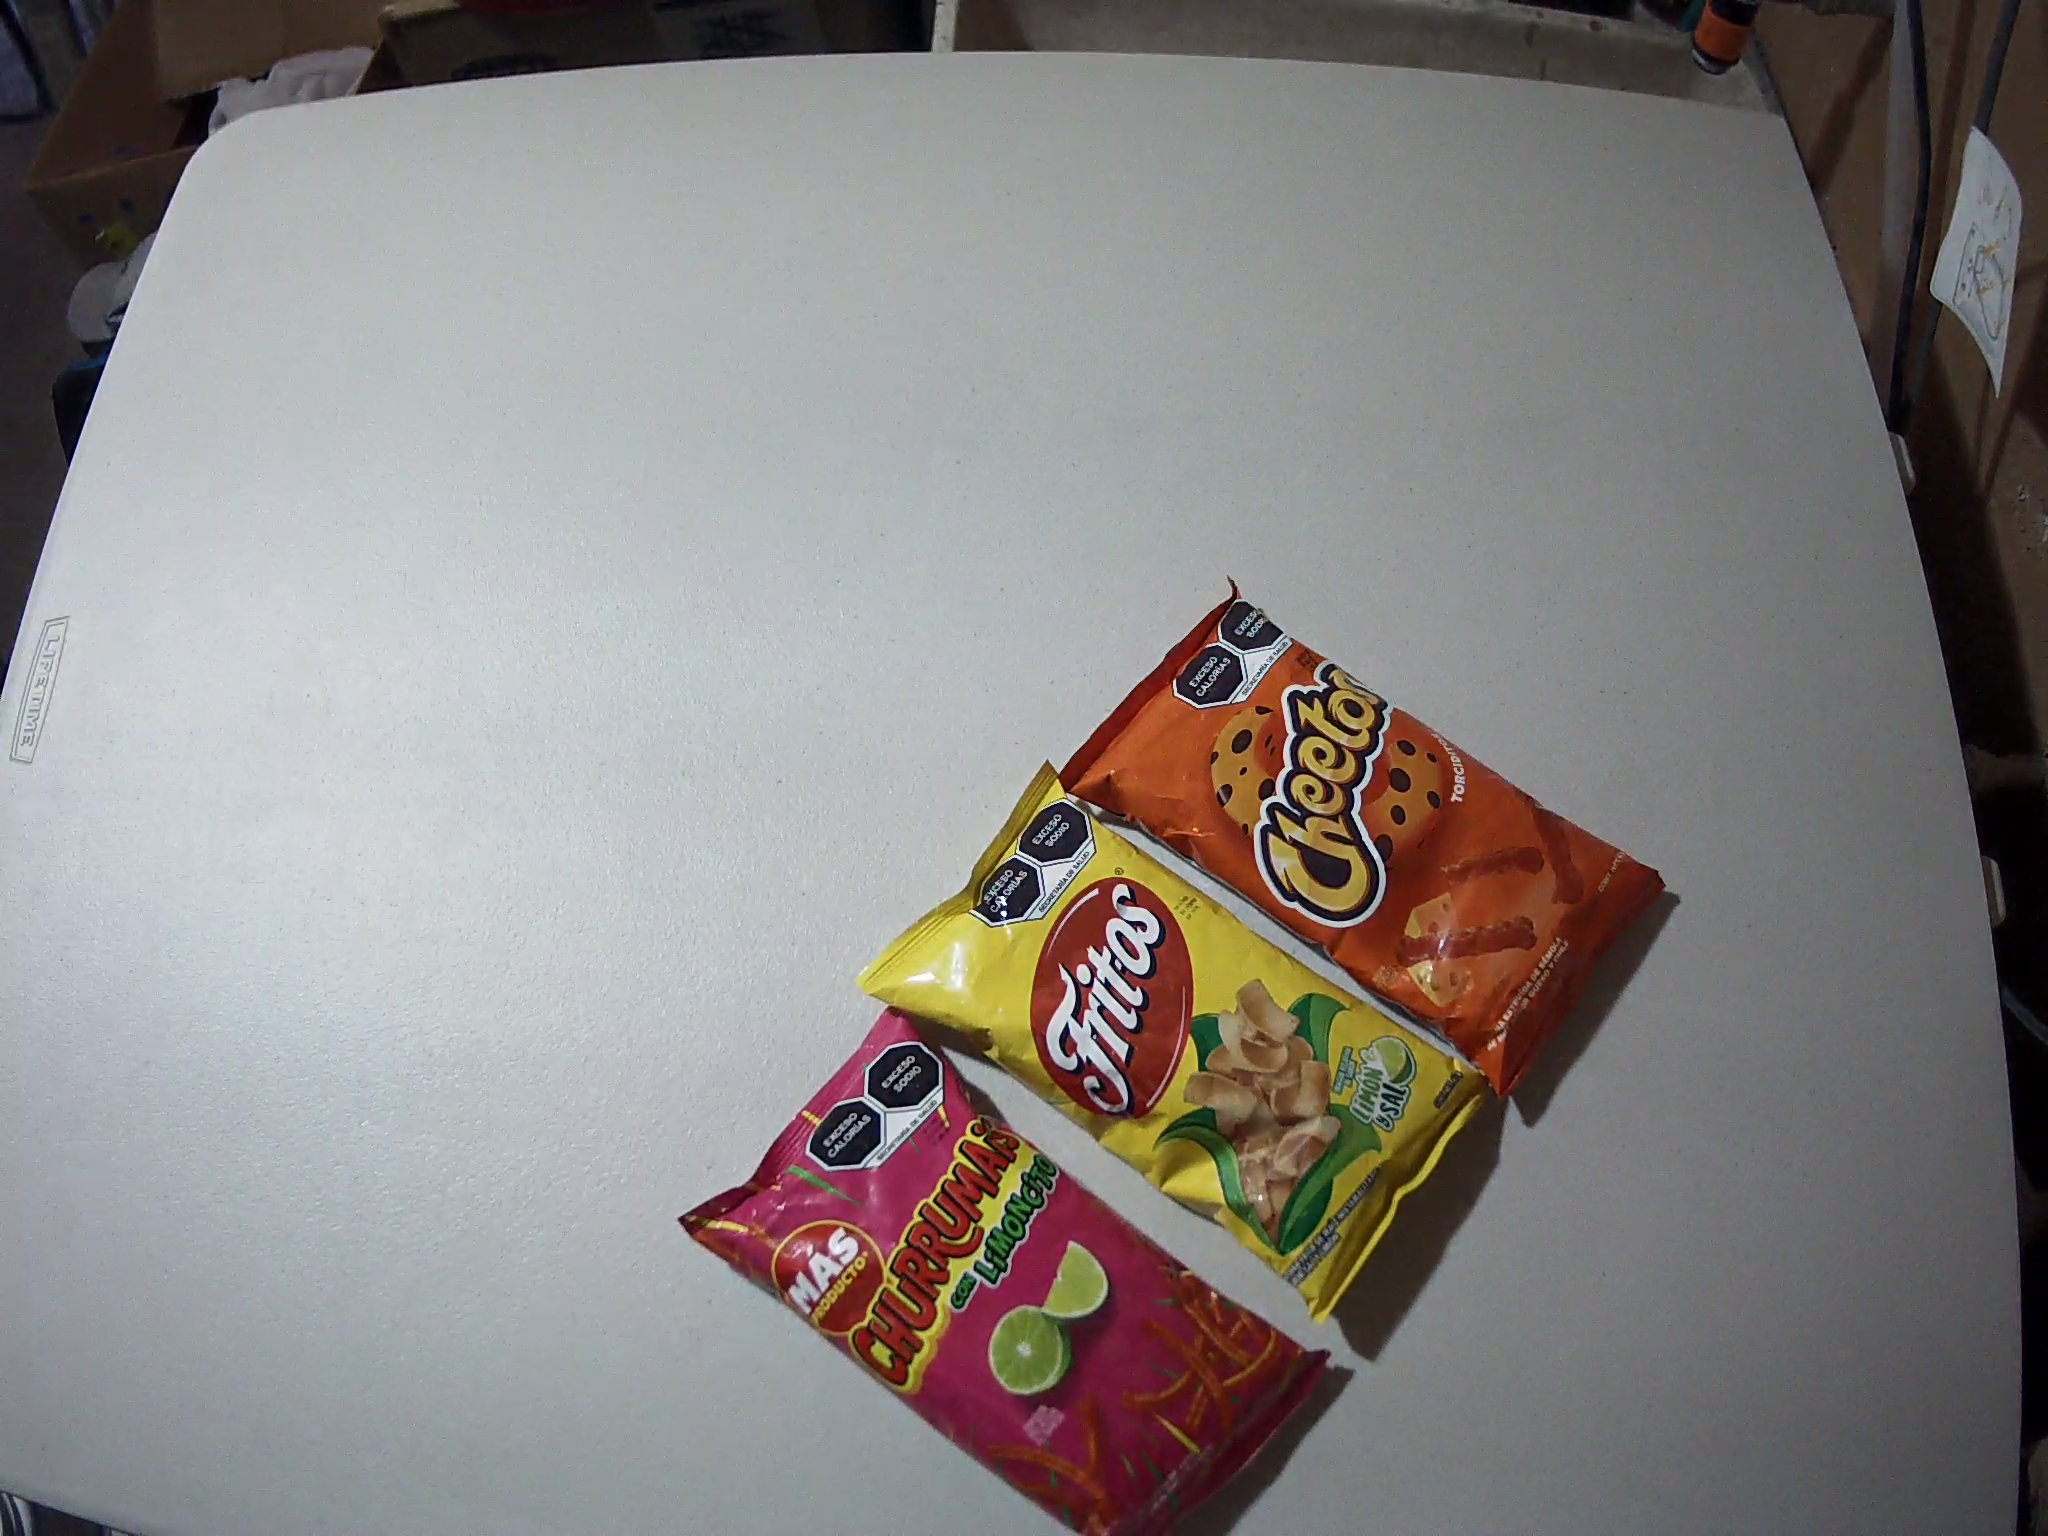CheetosTorciditos_55_F: (1063, 573, 1669, 1107)
Churrumais_70_F: (676, 1005, 1330, 1536)
FritosSalLimon_65_F: (855, 760, 1488, 1333)
